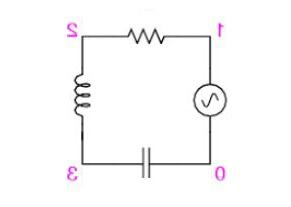resistor: (117, 19, 173, 49)
